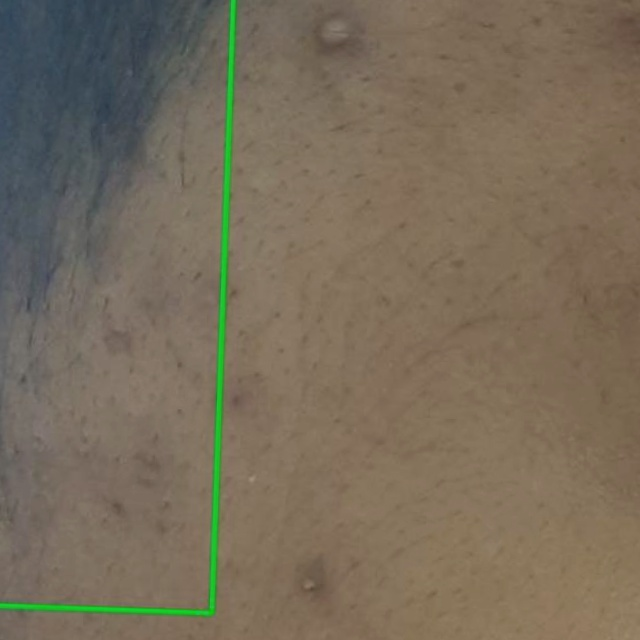Seborrheic Dermatitis: (0, 0, 233, 612)
